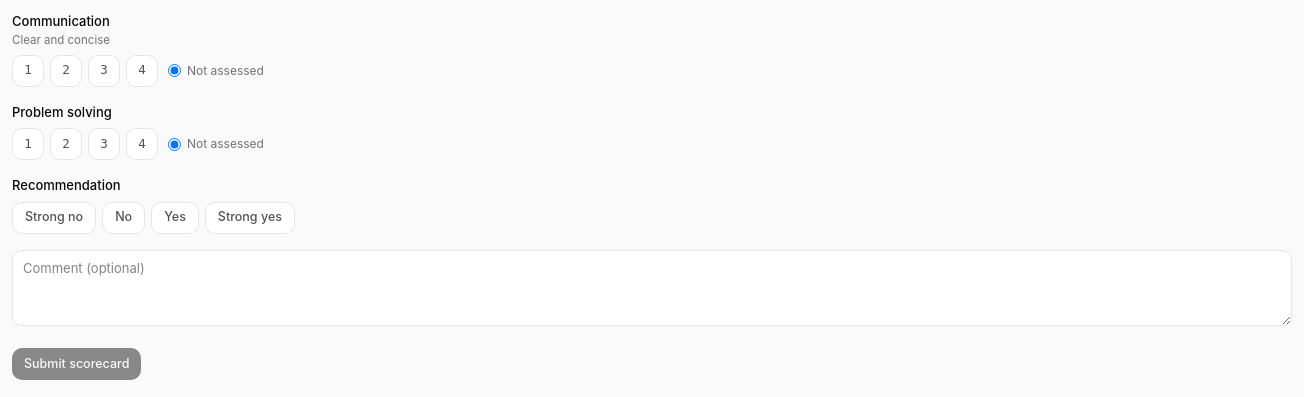
Scenario: ScorecardForm › disables submit until a recommendation is picked
Expected: the button "Submit scorecard" is disabled, [12,348,141,380]
Click the button "Yes".
click(175, 218)  # box [151,202,199,234]
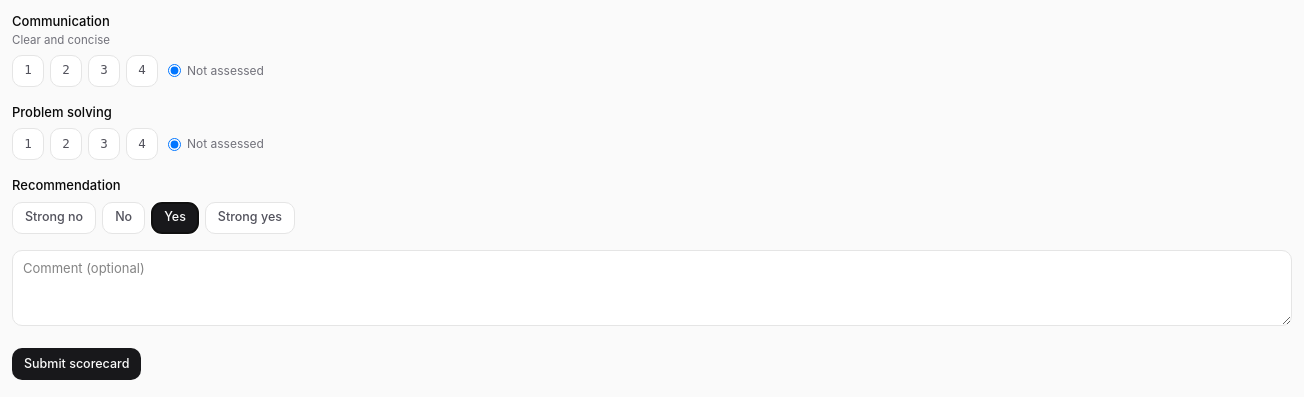
Expected: the button "Submit scorecard" is enabled, [12,348,141,380]
